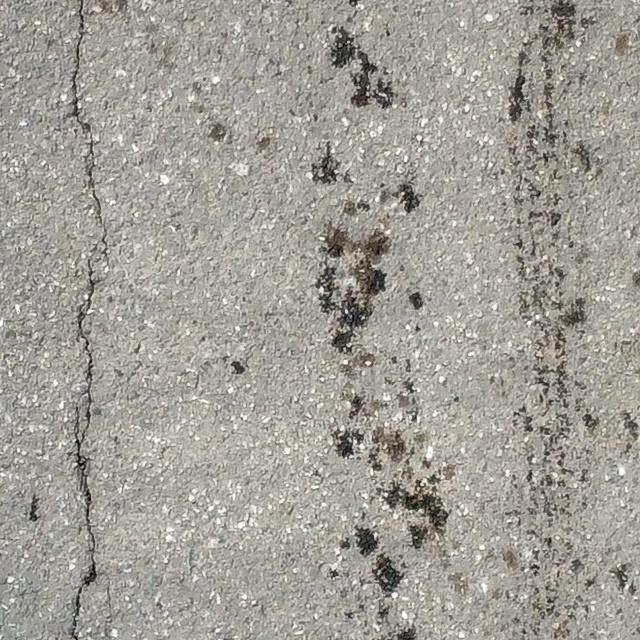LongitudinalCrack: (70, 1, 112, 640)
